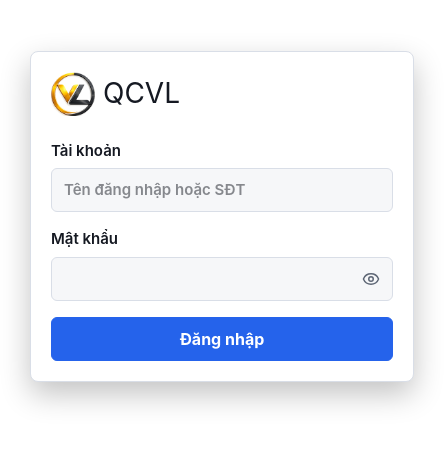
Scenario: validates missing credentials before submitting
Click the button "Đăng nhập": (222, 338) left=51, top=316, right=393, bottom=360
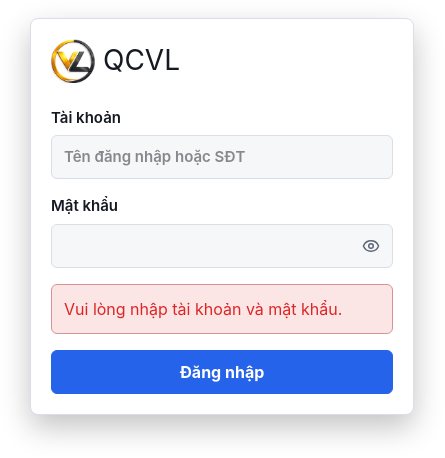
Expected: the message reads "Vui lòng nhập tài khoản và mật khẩu.", left=64, top=298, right=342, bottom=318
